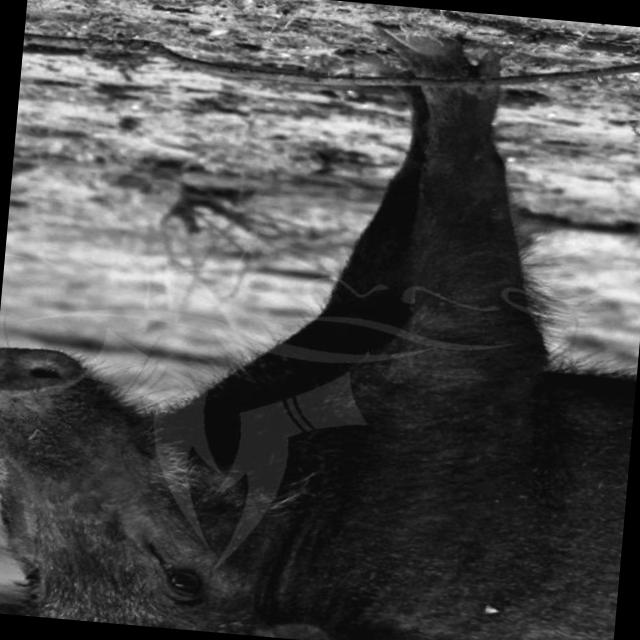pig: (0, 87, 634, 640)
